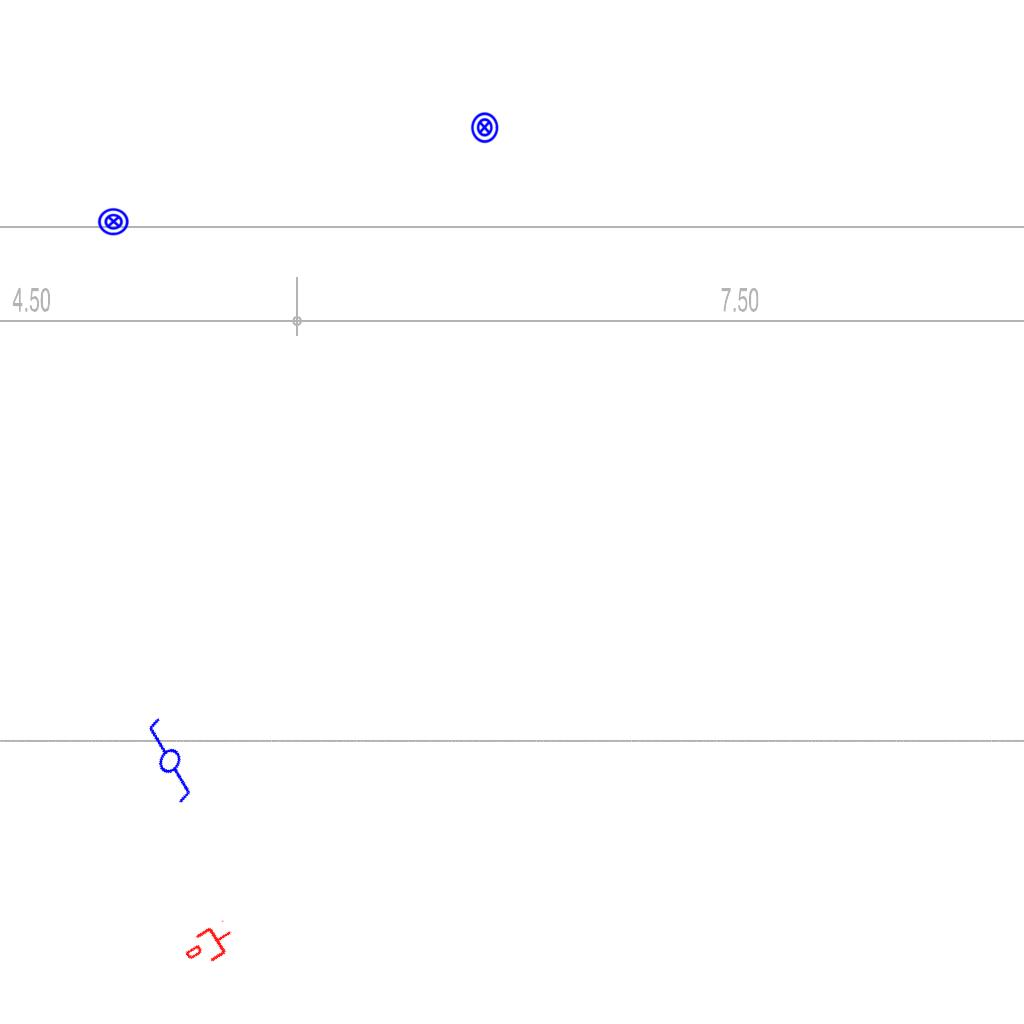Datenanschluss_einfach: (179, 917, 241, 973)
Taster_beleuchtet: (97, 205, 130, 238), (468, 111, 501, 144)
Wechselschalter: (117, 712, 217, 816)
